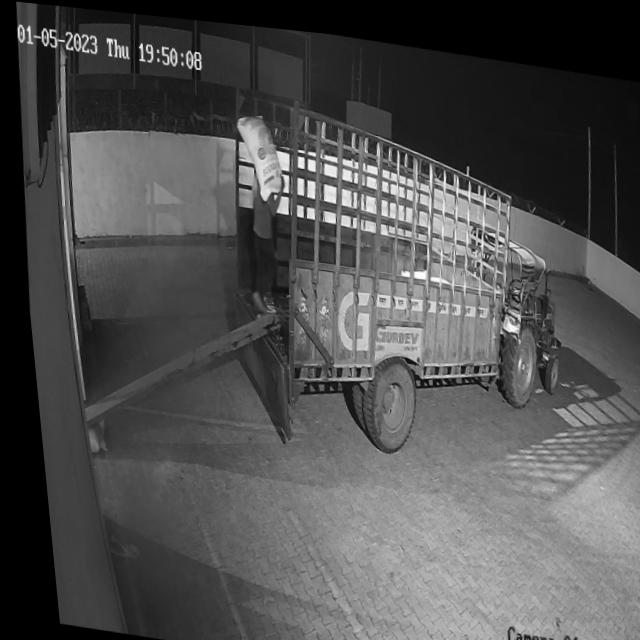sack: (231, 105, 285, 199)
